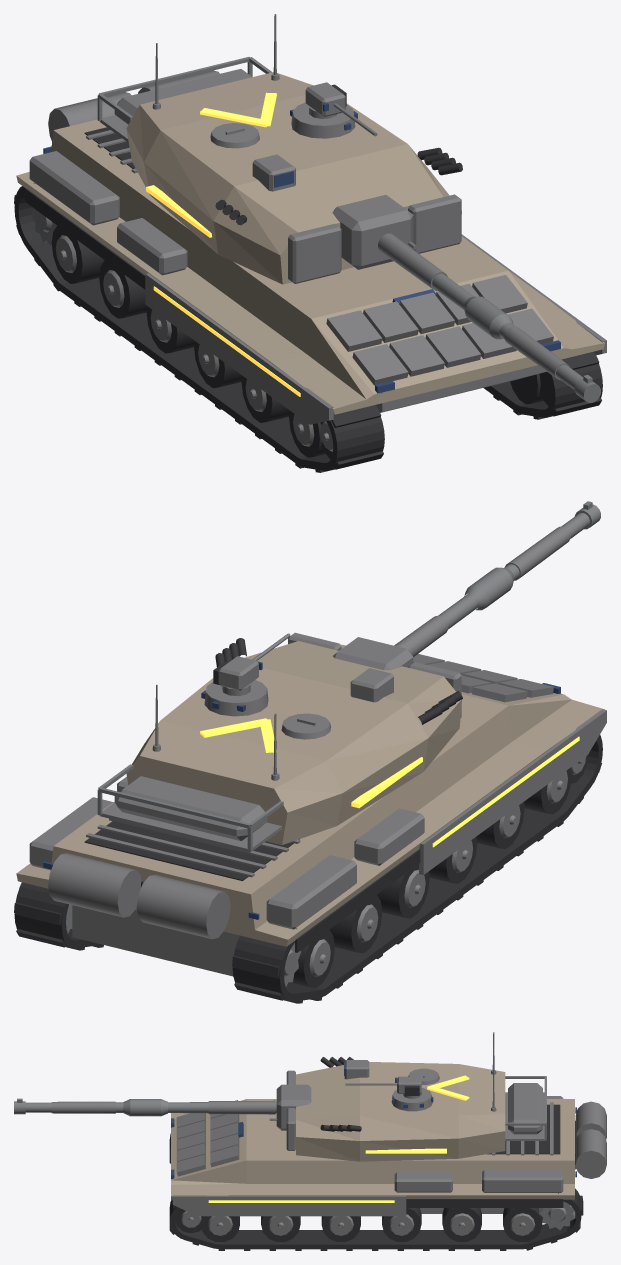
File: mbt_red.glb
3 renders of one model, top to bottom at view 1: azimuth 30°, elevation 25°; view 2: azimuth 150°, elevation 25°; view 3: azimuth 270°, elevation 25°, orthographic. The views are drawn at different scales.
Parts seen in each view (by area): view 1: body, turret, gun; view 2: body, turret, gun; view 3: body, turret, gun.
Boxes of the visible parts, box(x1,y1,x2,y2) form: body: box(14, 70, 606, 472); turret: box(97, 14, 462, 284); gun: box(332, 195, 600, 402); body: box(14, 644, 606, 1003); turret: box(97, 632, 462, 852); gun: box(333, 501, 600, 670); body: box(169, 1096, 606, 1250); turret: box(286, 1032, 546, 1161); gun: box(14, 1084, 311, 1130).
Size of the model in its own units: 3.54 by 3.02 by 10.2.
